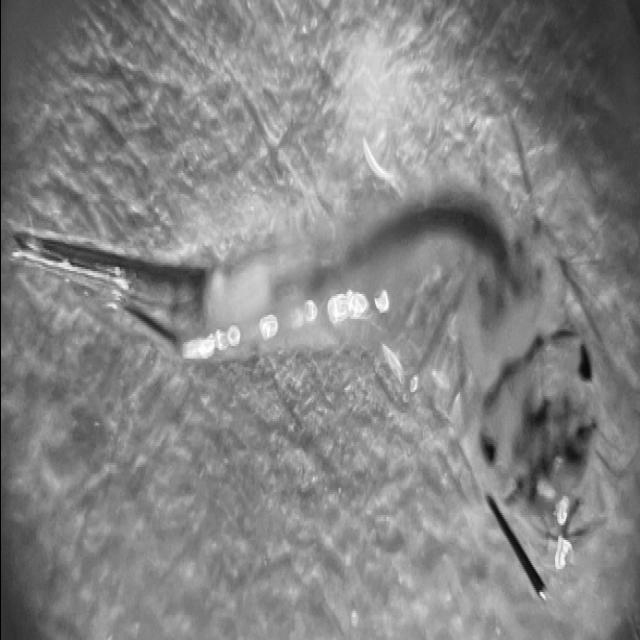larvas: (22, 163, 600, 560)
